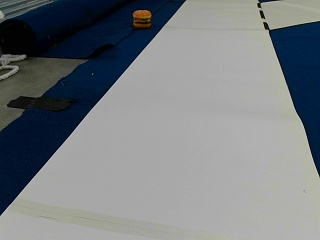burger: (132, 8, 152, 28)
